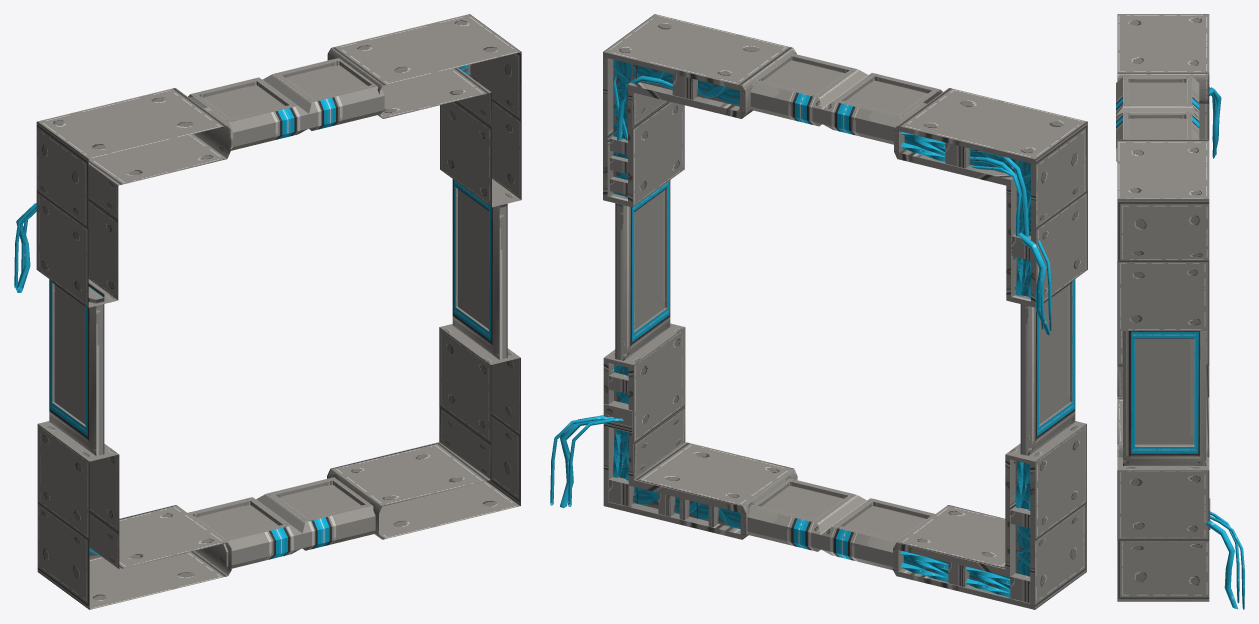
File: LootRoomFBX.fbx
3 renders of one model, left to right at view 1: azimuth 30°, elevation 25°; view 2: azimuth 150°, elevation 25°; view 3: azimuth 270°, elevation 25°, orthographic. The views are drawn at different scales.
Visible parts, largest first — view 1: TopRightCornerWalll, BottomRightCornerWall, BottomLeftCornerWall, TopCornerWalll, TopDoorLeft (×2), TopDoorRight (×2), LeftSideDoor, RightSideDoor; view 2: TopRightCornerWalll, TopCornerWalll, BottomLeftCornerWall, BottomRightCornerWall, TopDoorLeft (×2), TopDoorRight (×2), LeftSideDoor, RightSideDoor, CornerWire11; view 3: TopCornerWalll, BottomLeftCornerWall, LeftSideDoor, TopRightCornerWalll, TopDoorRight, TopDoorLeft, BottomRightCornerWall, CornerWire2, CornerWire11, CornerWire3, CornerWire5.
Boxes of the visible parts, bbox=[...] form: TopRightCornerWalll: bbox=[36, 88, 230, 307]; BottomRightCornerWall: bbox=[37, 421, 231, 609]; BottomLeftCornerWall: bbox=[327, 324, 520, 539]; TopCornerWalll: bbox=[327, 14, 521, 207]; TopDoorLeft (×2): bbox=[256, 58, 384, 550]; TopDoorRight (×2): bbox=[188, 77, 308, 568]; LeftSideDoor: bbox=[452, 179, 507, 359]; RightSideDoor: bbox=[49, 279, 104, 455]; TopRightCornerWalll: bbox=[894, 88, 1087, 307]; TopCornerWalll: bbox=[603, 14, 796, 207]; BottomLeftCornerWall: bbox=[603, 323, 797, 539]; BottomRightCornerWall: bbox=[893, 421, 1086, 609]; TopDoorLeft (×2): bbox=[747, 53, 868, 551]; TopDoorRight (×2): bbox=[820, 73, 942, 570]; LeftSideDoor: bbox=[615, 180, 670, 360]; RightSideDoor: bbox=[1020, 279, 1075, 455]; CornerWire11: bbox=[1018, 232, 1049, 334]; TopCornerWalll: bbox=[1117, 139, 1209, 330]; BottomLeftCornerWall: bbox=[1117, 457, 1209, 601]; LeftSideDoor: bbox=[1123, 331, 1206, 465]; TopRightCornerWalll: bbox=[1117, 14, 1209, 139]; TopDoorRight: bbox=[1116, 76, 1199, 115]; TopDoorLeft: bbox=[1116, 112, 1199, 161]; BottomRightCornerWall: bbox=[1117, 331, 1209, 457]; CornerWire2: bbox=[1206, 520, 1237, 609]; CornerWire11: bbox=[1209, 87, 1221, 158]; CornerWire3: bbox=[1210, 516, 1244, 609]; CornerWire5: bbox=[1210, 511, 1239, 603].
Bounding box in the file's own units: 16.28 × 14.56 × 4.23.
